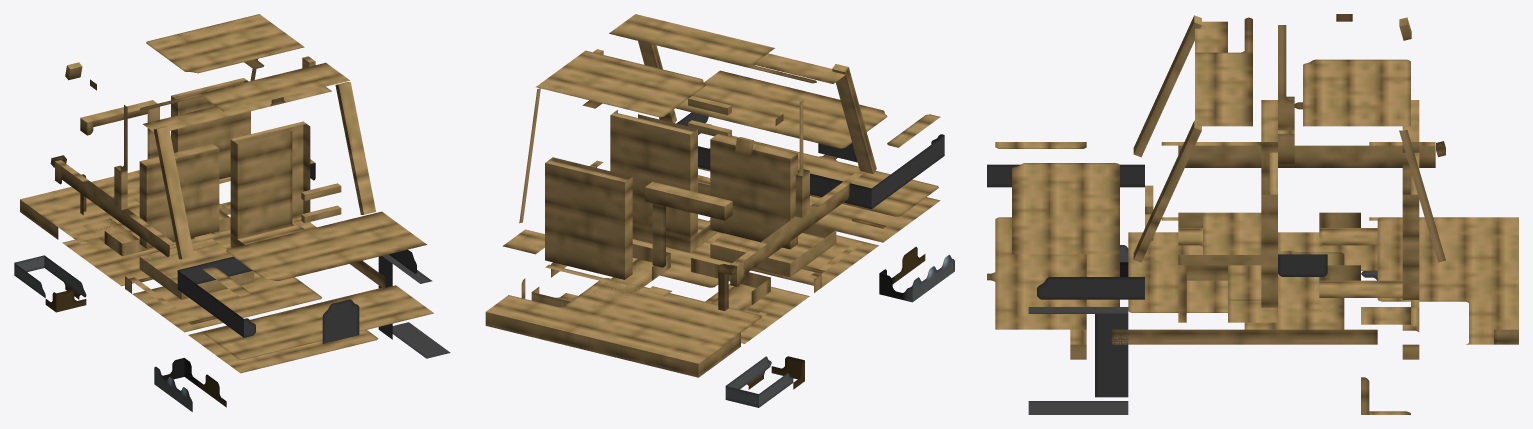
File: orange_tesla.obj
3 views of the same model, side by side, from view 1: azimuth 30°, elevation 25°; view 2: azimuth 150°, elevation 25°; view 3: azimuth 270°, elevation 25° (orthographic). The views are drawn at different scales.
Parts seen in each view (by area): view 1: cube3, cube, cube8, cube20, cube22, cube24, cube7, cube21, cube10, cube9, cube18, cube15 (+7 smaller); view 2: cube, cube3, cube8, cube24, cube22, cube20, cube26, cube21, cube7, cube18, cube10, cube16 (+10 smaller); view 3: cube, cube3, cube8, cube7, cube15, cube21, cube19, cube20, cube24, cube23, cube25, cube9 (+9 smaller).
Part boxes in pixels (<box>): cube3: <box>177,211,433,359</box>; cube: <box>20,170,385,373</box>; cube8: <box>90,14,349,131</box>; cube20: <box>230,121,310,239</box>; cube22: <box>139,143,219,261</box>; cube24: <box>171,78,250,182</box>; cube7: <box>55,160,175,309</box>; cube21: <box>139,238,254,299</box>; cube10: <box>153,126,194,259</box>; cube9: <box>335,82,375,214</box>; cube18: <box>14,255,86,312</box>; cube15: <box>378,254,450,358</box>; cube: <box>485,196,940,377</box>; cube3: <box>675,70,944,216</box>; cube8: <box>536,14,845,125</box>; cube24: <box>545,157,632,286</box>; cube22: <box>710,134,797,263</box>; cube20: <box>610,110,697,238</box>; cube26: <box>645,181,732,311</box>; cube21: <box>710,224,836,277</box>; cube7: <box>730,171,863,316</box>; cube18: <box>725,356,804,407</box>; cube10: <box>832,64,876,173</box>; cube16: <box>879,247,954,302</box>; cube: <box>1086,217,1518,344</box>; cube3: <box>987,142,1144,329</box>; cube8: <box>1195,14,1410,126</box>; cube7: <box>1161,142,1435,220</box>; cube15: <box>1028,307,1128,414</box>; cube21: <box>1178,212,1261,265</box>; cube19: <box>1178,265,1277,322</box>; cube20: <box>1261,152,1277,307</box>; cube24: <box>1402,152,1419,307</box>; cube23: <box>1319,265,1402,297</box>; cube25: <box>1319,212,1402,246</box>; cube9: <box>1133,120,1201,262</box>.
Size of the model in its own units: 2.62 by 2.25 by 4.
